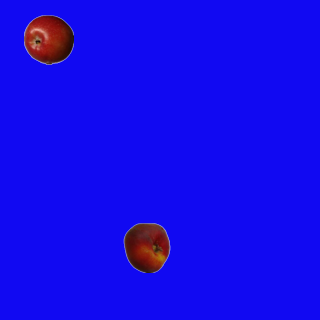Apple Braeburn: (23, 14, 73, 64)
Nectarine Flat: (121, 222, 171, 272)
